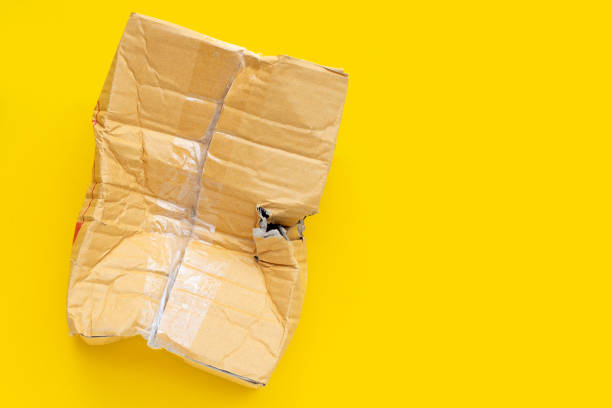damaged package: (74, 100, 223, 243), (246, 185, 331, 315)
